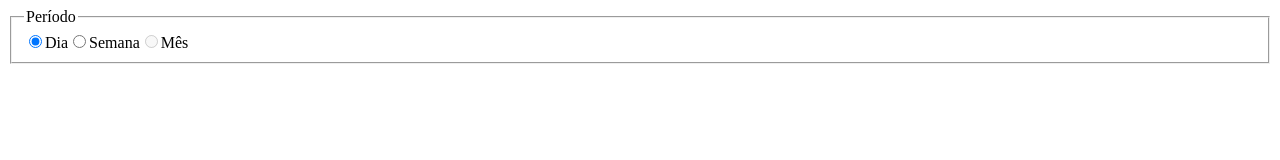
SegmentedControl › não controlado: clique e setas trocam e avisam
Click the radio button labelled "Semana". click: [80, 41]
box: [73,35,86,48]
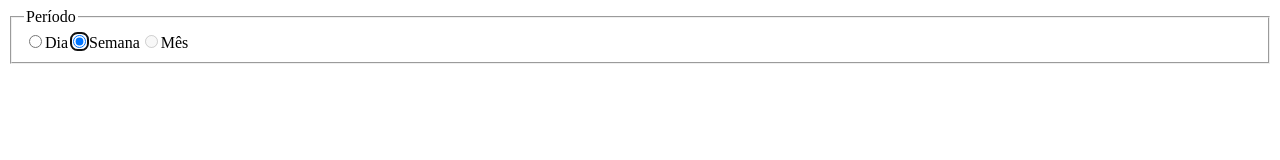
Expected: the radio button labelled "Semana" is checked, [73,35,86,48]
Press Arrowleft
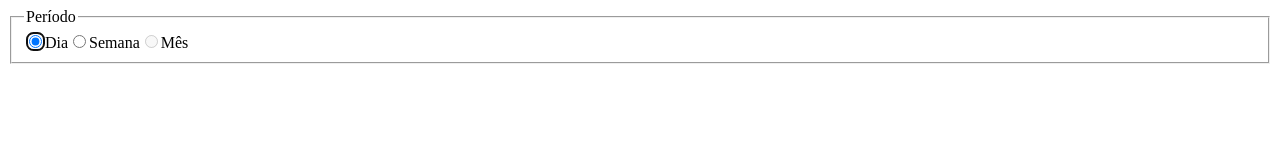
Expected: the radio button labelled "Dia" is checked, [29,35,42,48]
